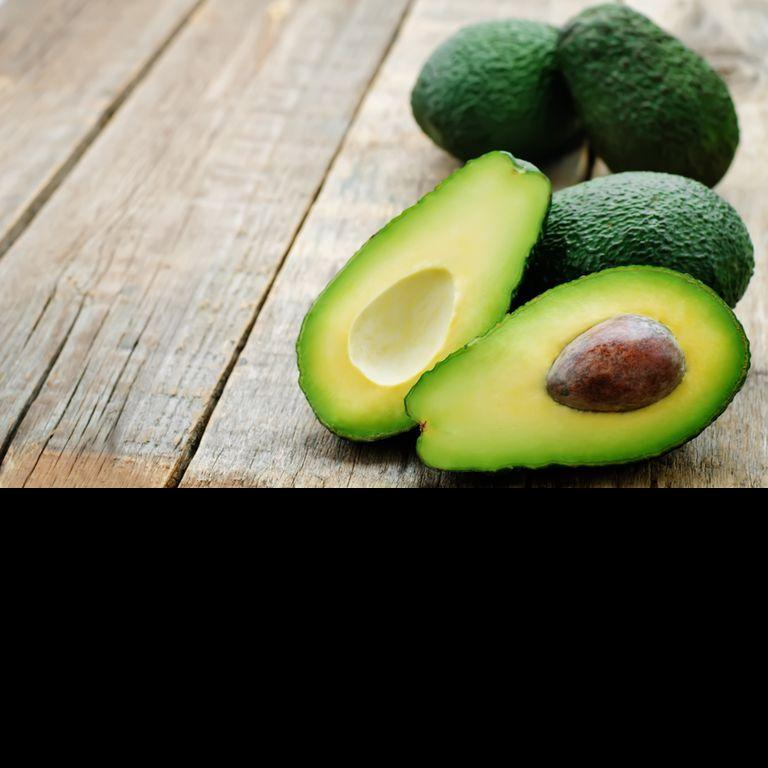unripe: (556, 2, 739, 189), (537, 170, 755, 309), (411, 18, 586, 169)
